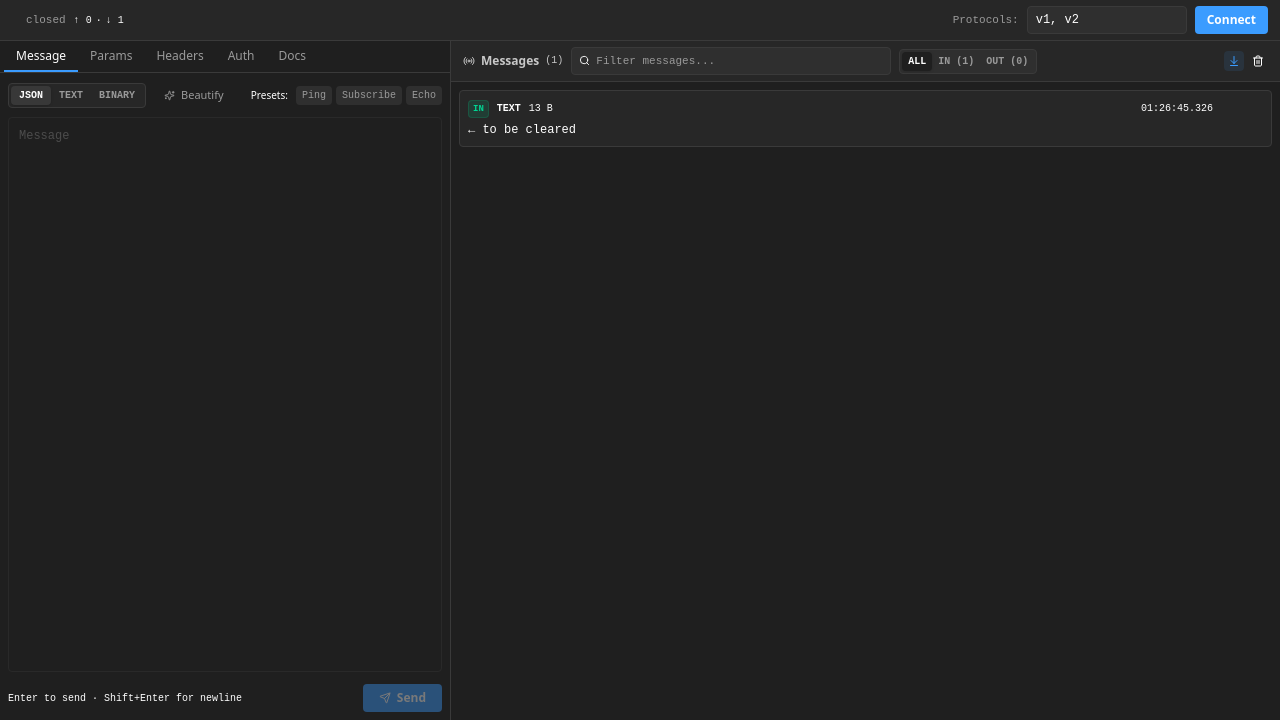
Scenario: WsPanel › clears messages stream on clear button click
Expected: the text "← to be cleared" is shown, [468,123,576,137]
Click the button titled "Clear messages" at (1258, 61), box [1248,51,1268,71]
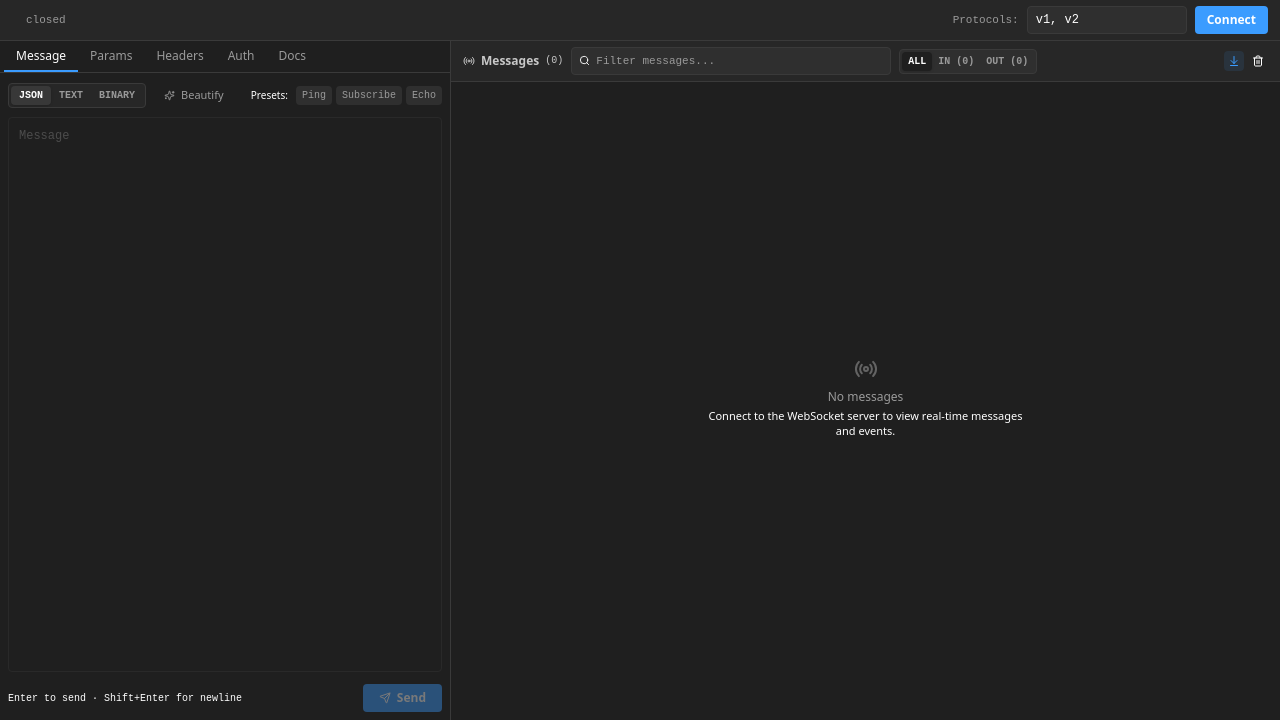
Expected: the text "← to be cleared" is gone
Expected: the text "No messages" is shown, [828,389,903,405]
